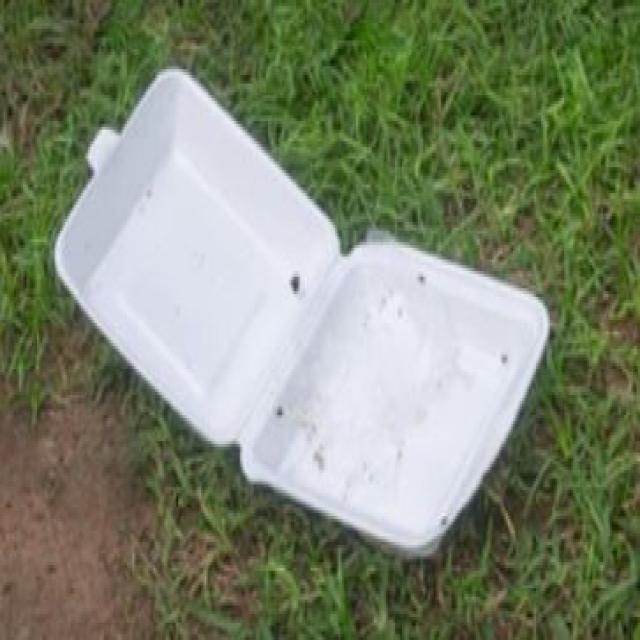electronic: (51, 63, 550, 560)
